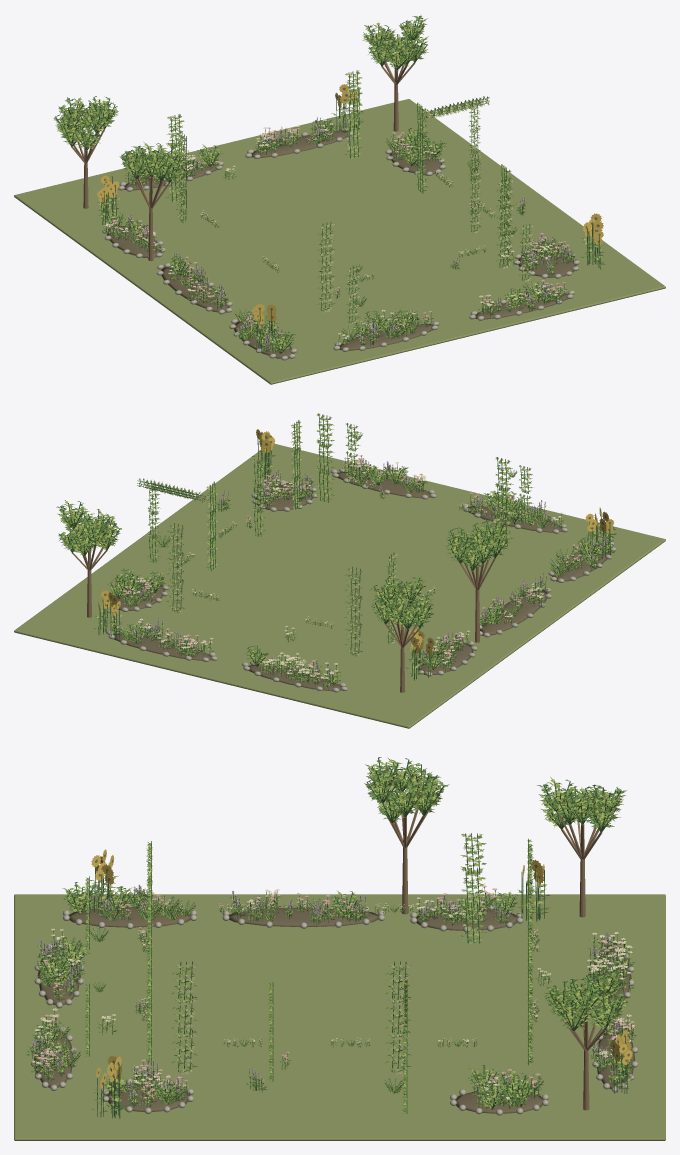
The model's file is SM_HippieCoupleHouse_Garden.fbx.
3 renders of one model, top to bottom at view 1: azimuth 30°, elevation 25°; view 2: azimuth 150°, elevation 25°; view 3: azimuth 270°, elevation 25°, orthographic. The views are drawn at different scales.
Visible parts, largest first — view 1: EXPORT_Garden ground, EXPORT_Organic mulched bed.004, EXPORT_Organic mulched bed.008, EXPORT_Organic mulched bed, EXPORT_Organic mulched bed.003, EXPORT_Organic mulched bed.001, EXPORT_Organic mulched bed.005; view 2: EXPORT_Garden ground, EXPORT_Organic mulched bed.004, EXPORT_Organic mulched bed.007, EXPORT_Organic mulched bed.008, EXPORT_Organic mulched bed.001, EXPORT_Organic mulched bed, EXPORT_Organic mulched bed.005, EXPORT_Organic mulched bed.003, EXPORT_Organic mulched bed.002, EXPORT_Shrub.038, EXPORT_Shrub.031; view 3: EXPORT_Garden ground, EXPORT_Organic mulched bed.004, EXPORT_Organic mulched bed.002, EXPORT_Organic mulched bed.005, EXPORT_Organic mulched bed.003, EXPORT_Organic mulched bed.006, EXPORT_Shrub.038, EXPORT_Shrub.022, EXPORT_Shrub.030, EXPORT_Shrub.041, EXPORT_Organic mulched bed, EXPORT_Shrub.043 (+8 smaller).
Boxes of the visible parts, left/top/right/bottom form: EXPORT_Garden ground: left=14, top=99, right=665, bottom=384; EXPORT_Organic mulched bed.004: left=161, top=267, right=229, bottom=312; EXPORT_Organic mulched bed.008: left=251, top=130, right=348, bottom=157; EXPORT_Organic mulched bed: left=339, top=324, right=432, bottom=350; EXPORT_Organic mulched bed.003: left=518, top=251, right=576, bottom=277; EXPORT_Organic mulched bed.001: left=475, top=293, right=568, bottom=319; EXPORT_Organic mulched bed.005: left=107, top=226, right=161, bottom=257; EXPORT_Garden ground: left=14, top=443, right=665, bottom=728; EXPORT_Organic mulched bed.004: left=480, top=590, right=547, bottom=635; EXPORT_Organic mulched bed.007: left=248, top=665, right=341, bottom=691; EXPORT_Organic mulched bed.008: left=113, top=633, right=211, bottom=660; EXPORT_Organic mulched bed.001: left=337, top=472, right=430, bottom=498; EXPORT_Organic mulched bed: left=468, top=506, right=561, bottom=532; EXPORT_Organic mulched bed.005: left=419, top=643, right=473, bottom=674; EXPORT_Organic mulched bed.003: left=255, top=483, right=313, bottom=510; EXPORT_Organic mulched bed.002: left=552, top=544, right=611, bottom=581; EXPORT_Shrub.038: left=56, top=500, right=89, bottom=528; EXPORT_Shrub.031: left=465, top=535, right=500, bottom=563; EXPORT_Garden ground: left=14, top=894, right=665, bottom=1140; EXPORT_Organic mulched bed.004: left=229, top=907, right=378, bottom=927; EXPORT_Organic mulched bed.002: left=69, top=907, right=190, bottom=927; EXPORT_Organic mulched bed.005: left=416, top=909, right=516, bottom=930; EXPORT_Organic mulched bed.003: left=106, top=1083, right=189, bottom=1112; EXPORT_Organic mulched bed.006: left=455, top=1090, right=543, bottom=1113; EXPORT_Shrub.038: left=568, top=978, right=604, bottom=1012; EXPORT_Shrub.022: left=563, top=788, right=600, bottom=824; EXPORT_Shrub.030: left=390, top=781, right=424, bottom=817; EXPORT_Shrub.041: left=587, top=993, right=623, bottom=1031; EXPORT_Organic mulched bed: left=38, top=946, right=80, bottom=1005; EXPORT_Shrub.043: left=556, top=997, right=592, bottom=1031.
Bounding box in the file's own units: 1600 × 1800 × 465.
